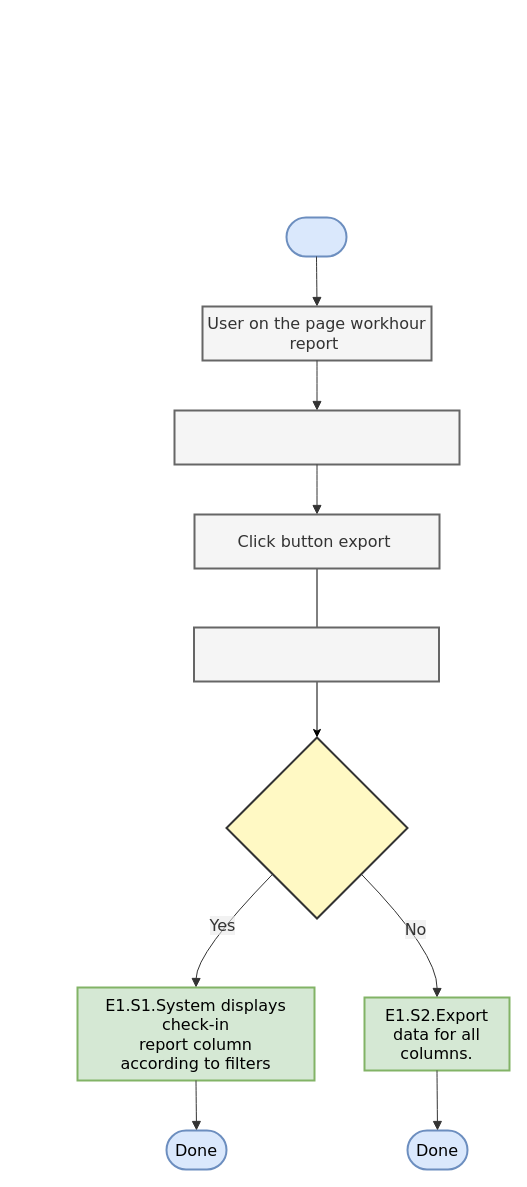
The diagram is 527 pixels wide and 1187 high, and some of its shapes have lost their labels. Each missing label, with the centre of its shape:
"Start" goes at point 316,236.
"User already have data checkin (checkin, checkout, step in, step out)" goes at point 316,437.
"validate whether the user has selected a filter column" goes at point 316,654.
